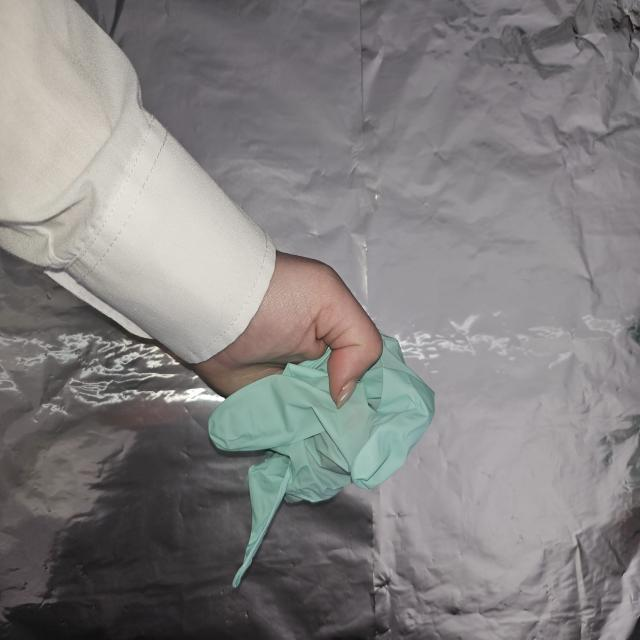glove_partial: (192, 250, 437, 592)
